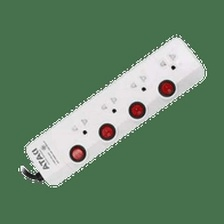three_eye_plug: (23, 32, 208, 189)
